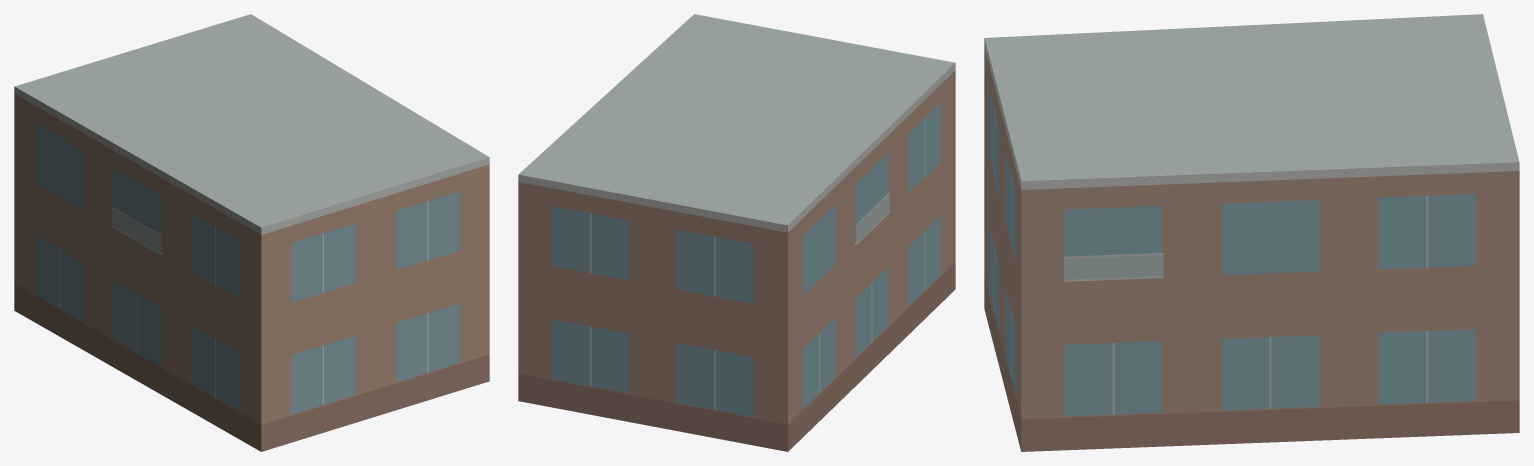
The model's file is survey-upis-32641274.glb.
The picture shows the model from 3 angles, left to right: view 1: azimuth 30°, elevation 25°; view 2: azimuth 150°, elevation 25°; view 3: azimuth 270°, elevation 25°; orthographic projection. The views are drawn at different scales.
Visible parts, largest first — view 1: survey-upis-32641274.tmp; view 2: survey-upis-32641274.tmp; view 3: survey-upis-32641274.tmp.
Boxes of the visible parts, bbox=[...] form: survey-upis-32641274.tmp: bbox=[14, 14, 489, 451]; survey-upis-32641274.tmp: bbox=[518, 14, 955, 451]; survey-upis-32641274.tmp: bbox=[984, 14, 1519, 451].
Size of the model in its own units: 10.09 by 7.6 by 13.63.
